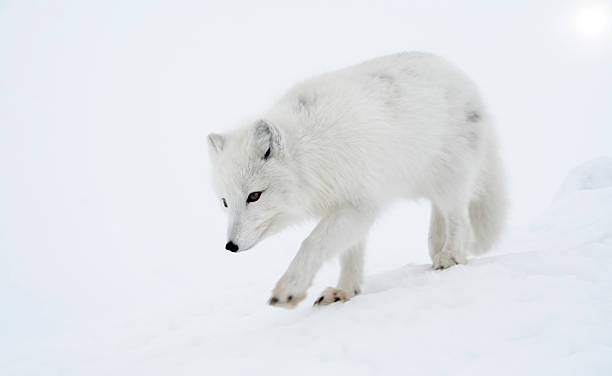arcticfox: (207, 154, 298, 261)
